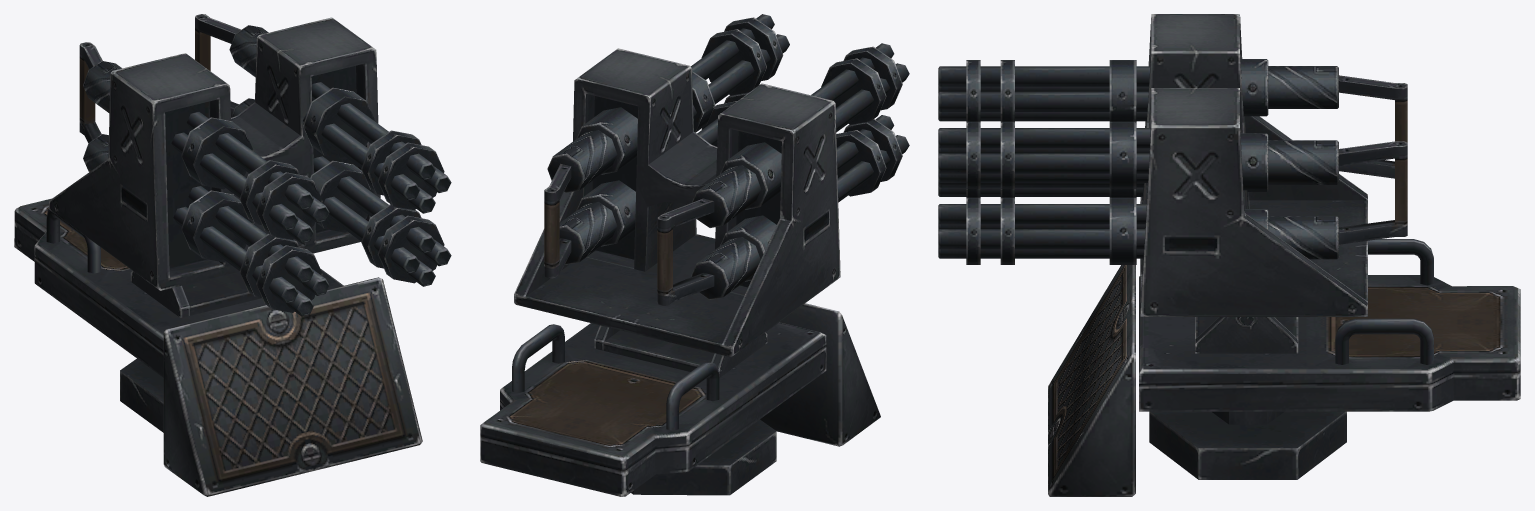
Rendered from Vulcan.obj.
3 renders of one model, left to right at view 1: azimuth 30°, elevation 25°; view 2: azimuth 150°, elevation 25°; view 3: azimuth 270°, elevation 25°, orthographic. The views are drawn at different scales.
Parts seen in each view (by area): view 1: vulcan_t_ncl1_1, vulcan_b; view 2: vulcan_t_ncl1_1, vulcan_b; view 3: vulcan_t_ncl1_1, vulcan_b.
Boxes of the visible parts, bbox=[...] form: vulcan_t_ncl1_1: bbox=[14, 14, 451, 496]; vulcan_b: bbox=[120, 358, 163, 432]; vulcan_t_ncl1_1: bbox=[480, 14, 909, 496]; vulcan_b: bbox=[631, 419, 776, 495]; vulcan_t_ncl1_1: bbox=[938, 14, 1520, 496]; vulcan_b: bbox=[1149, 411, 1346, 479].
Bounding box in the file's own units: 1.29 × 1.98 × 2.8.
3 materials, 3 textured.
